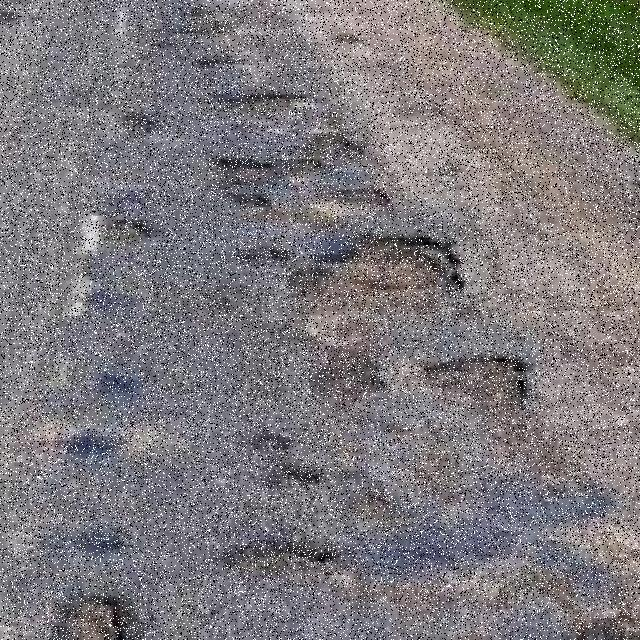pothole: (293, 237, 498, 306)
